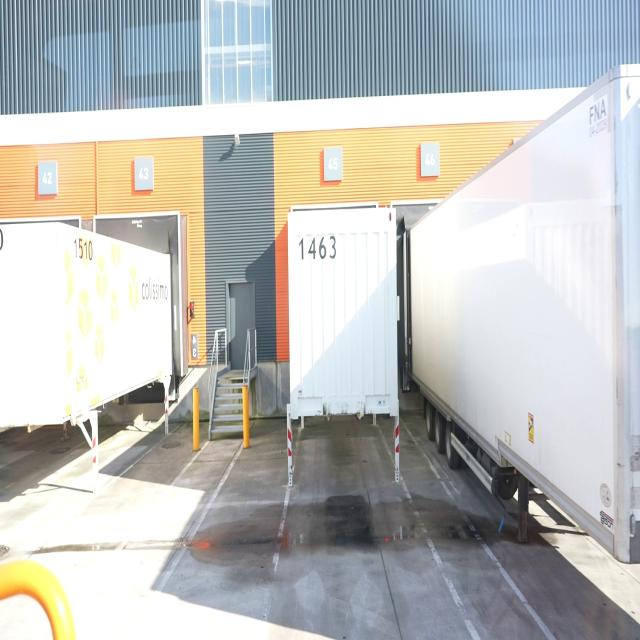Code: (295, 236, 339, 260), (69, 230, 96, 262)
